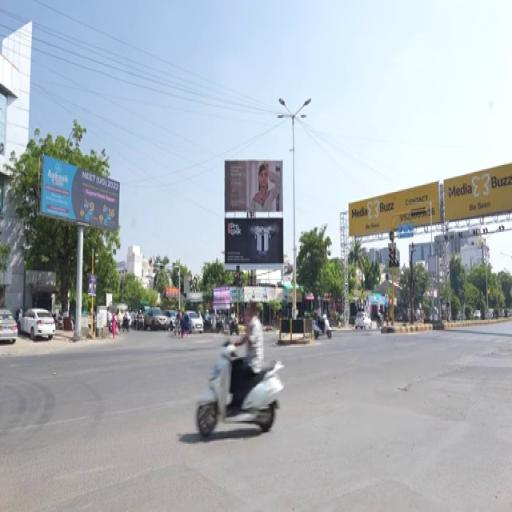Car: (20, 309, 55, 339), (0, 309, 18, 344), (144, 308, 167, 329), (187, 312, 203, 332), (355, 312, 371, 328), (164, 311, 176, 329)
